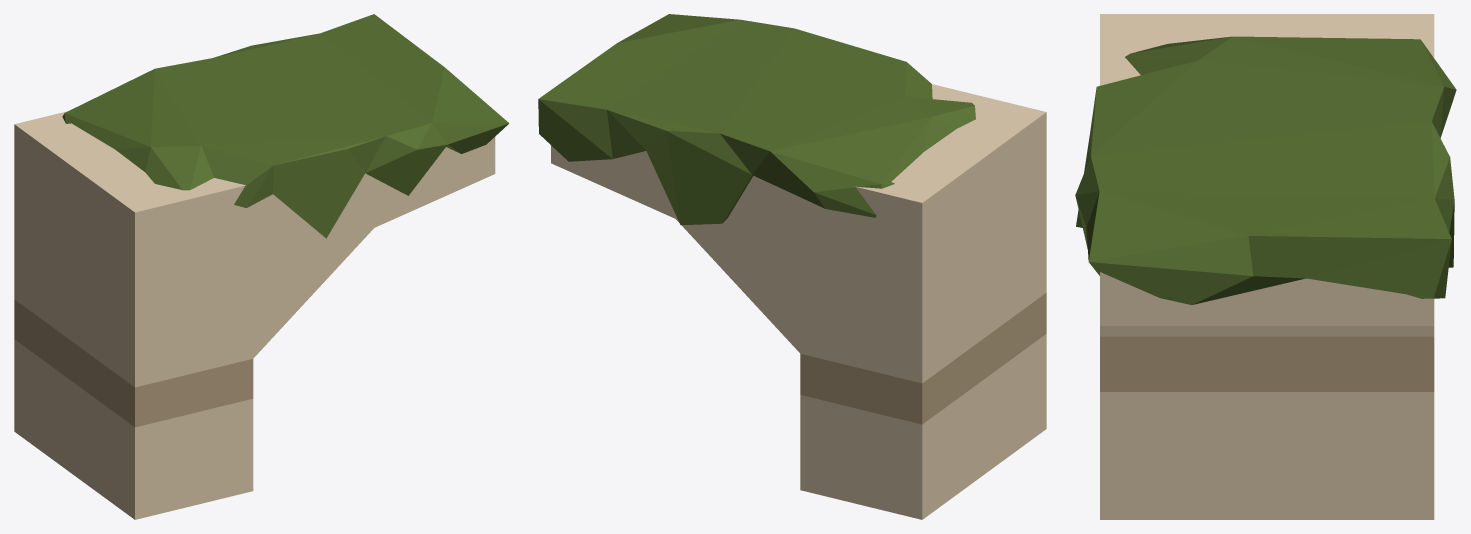
File: LightSandStoneBridgeSmallOverGrownBroken1.fbx
The picture shows the model from 3 angles, left to right: view 1: azimuth 30°, elevation 25°; view 2: azimuth 150°, elevation 25°; view 3: azimuth 270°, elevation 25°; orthographic projection. The views are drawn at different scales.
Parts seen in each view (by area): view 1: LightSandStoneBridgeSmallOverGrownBroken1SandStone, LightSandStoneBridgeSmallOverGrownBroken1GrassTopper; view 2: LightSandStoneBridgeSmallOverGrownBroken1SandStone, LightSandStoneBridgeSmallOverGrownBroken1GrassTopper; view 3: LightSandStoneBridgeSmallOverGrownBroken1GrassTopper, LightSandStoneBridgeSmallOverGrownBroken1SandStone.
Boxes of the visible parts, <box> form: LightSandStoneBridgeSmallOverGrownBroken1SandStone: <box>14,111,495,519</box>; LightSandStoneBridgeSmallOverGrownBroken1GrassTopper: <box>62,14,509,238</box>; LightSandStoneBridgeSmallOverGrownBroken1SandStone: <box>551,84,1046,519</box>; LightSandStoneBridgeSmallOverGrownBroken1GrassTopper: <box>538,14,975,225</box>; LightSandStoneBridgeSmallOverGrownBroken1GrassTopper: <box>1075,36,1456,304</box>; LightSandStoneBridgeSmallOverGrownBroken1SandStone: <box>1100,14,1434,519</box>.
Size of the model in its own units: 634 by 525 by 402.
